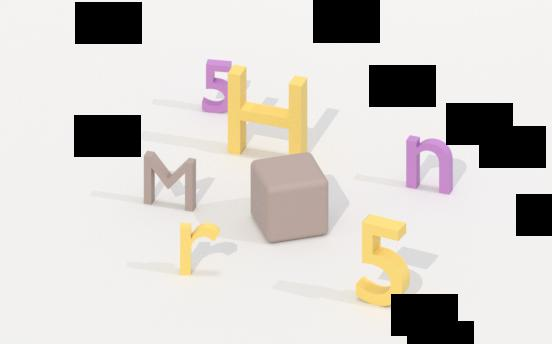5: (353, 210, 413, 310), (200, 55, 236, 114)
H-hoa: (220, 57, 312, 166)
M-hoa: (139, 146, 202, 216)
R: (178, 220, 224, 280)
hop: (248, 150, 330, 246)
n: (403, 129, 456, 198)
